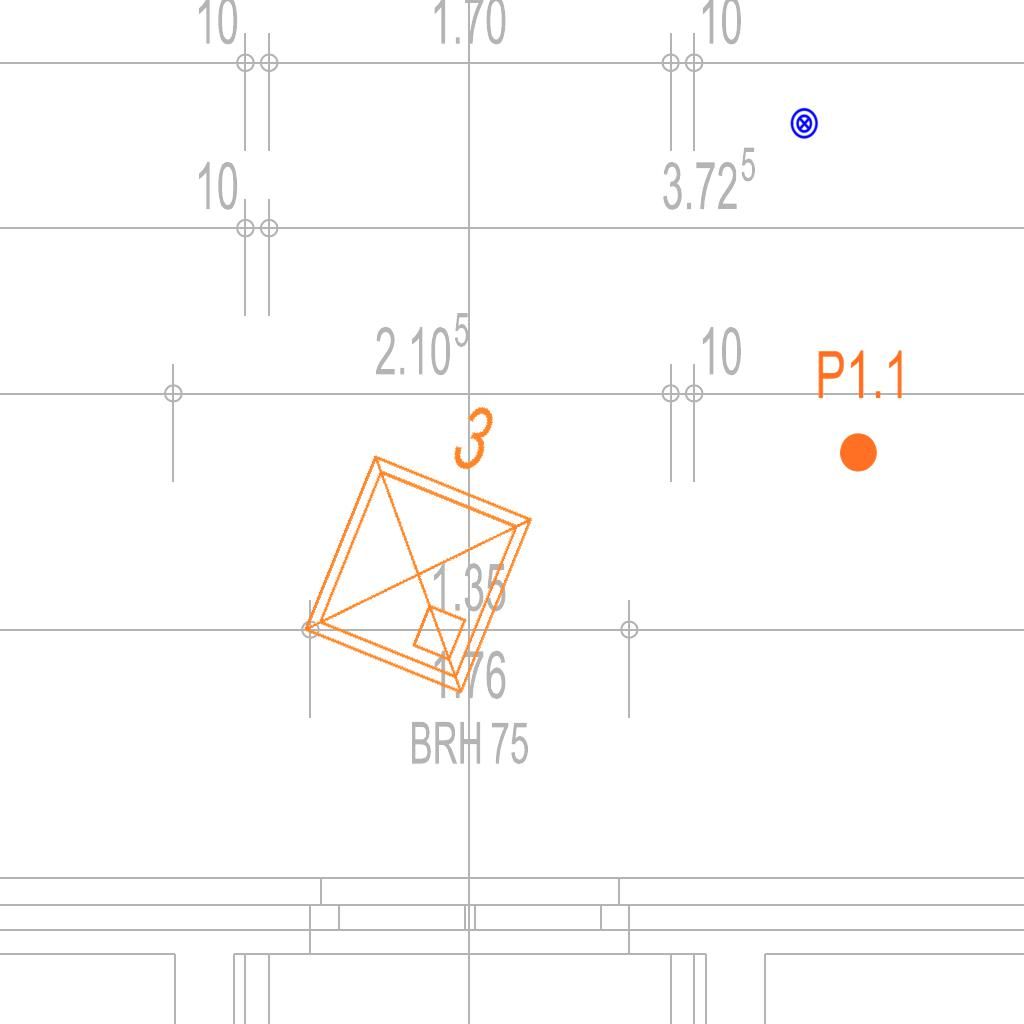Downlight_LED_Einbauleuchten_Flur: (815, 347, 908, 475)
Einbaudownlights_LED_Konferenzraeume: (277, 356, 583, 714)
Taster_beleuchtet: (788, 107, 821, 140)
